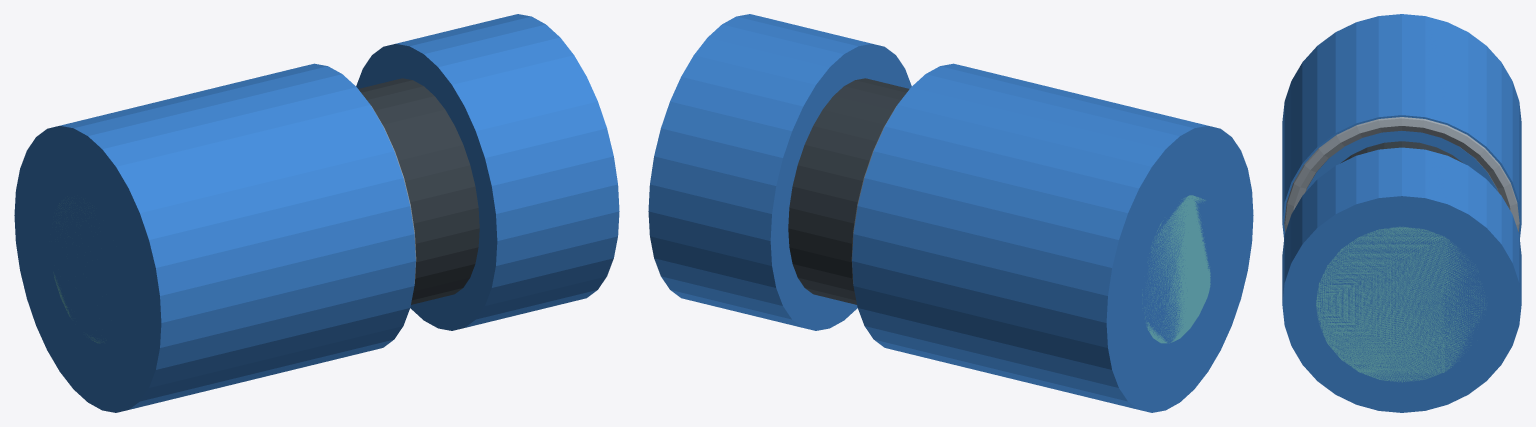
Rendered from beam_expander.glb.
The picture shows the model from 3 angles, left to right: view 1: azimuth 30°, elevation 25°; view 2: azimuth 150°, elevation 25°; view 3: azimuth 270°, elevation 25°; orthographic projection. The views are drawn at different scales.
Visible parts, largest first — view 1: beam_expander; view 2: beam_expander; view 3: beam_expander.
Part boxes in pixels (x1,y1,x2,y2): beam_expander: (14,14,619,412); beam_expander: (648,14,1253,412); beam_expander: (1282,14,1521,412).
Bounding box in the file's own units: 45 × 25 × 25.
